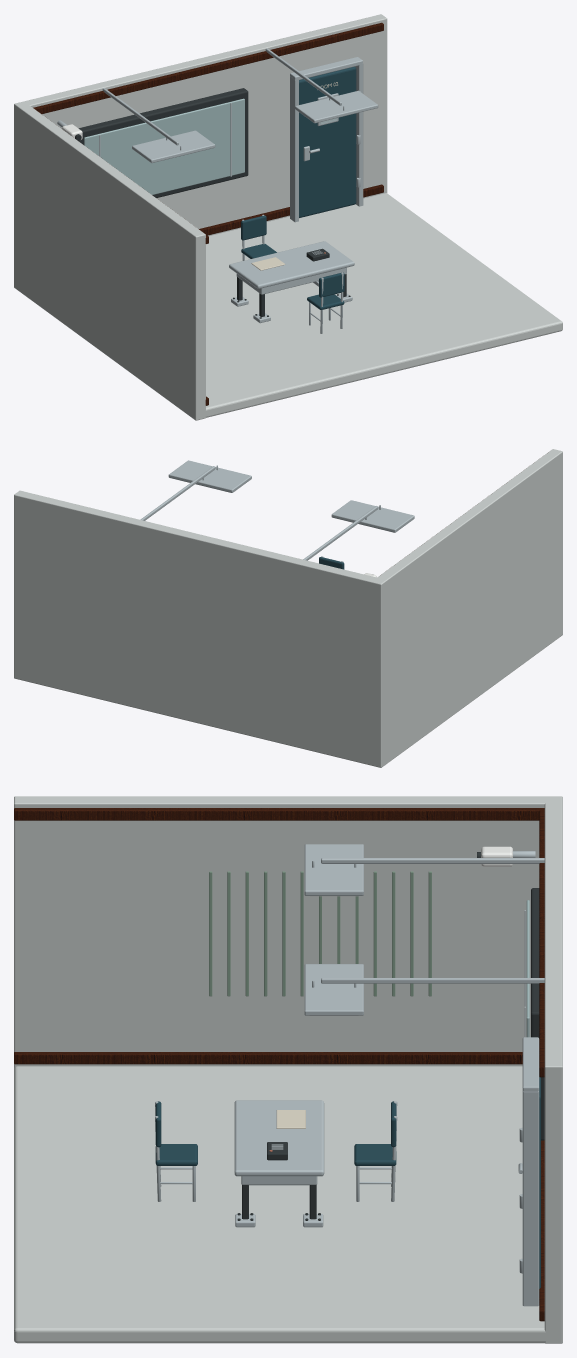
Rendered from police_interview_room.glb.
The picture shows the model from 3 angles, top to bottom: view 1: azimuth 30°, elevation 25°; view 2: azimuth 150°, elevation 25°; view 3: azimuth 270°, elevation 25°; orthographic projection. The views are drawn at different scales.
Visible parts, largest first — view 1: RefinedSurface_Concrete, RefinedSurface_Steel, RefinedSurface_Ink blue, Interview_ObservationGlass, RefinedSurface_Warm oak, RefinedSurface_Black metal; view 2: RefinedSurface_Concrete, RefinedSurface_Steel; view 3: RefinedSurface_Concrete, RefinedSurface_Steel, RefinedSurface_Warm oak, RefinedSurface_Sage, RefinedSurface_Ink blue, RefinedSurface_Black metal.
Part boxes in pixels (x1=…): RefinedSurface_Concrete: x1=14, y1=14, x2=562, y2=420; RefinedSurface_Steel: x1=57, y1=48, x2=378, y2=333; RefinedSurface_Ink blue: x1=241, y1=66, x2=356, y2=309; Interview_ObservationGlass: x1=84, y1=98, x2=244, y2=194; RefinedSurface_Warm oak: x1=33, y1=22, x2=383, y2=405; RefinedSurface_Black metal: x1=75, y1=88, x2=350, y2=318; RefinedSurface_Concrete: x1=14, y1=449, x2=562, y2=767; RefinedSurface_Steel: x1=140, y1=460, x2=414, y2=562; RefinedSurface_Concrete: x1=14, y1=796, x2=562, y2=1343; RefinedSurface_Steel: x1=155, y1=844, x2=544, y2=1306; RefinedSurface_Warm oak: x1=14, y1=808, x2=544, y2=1321; RefinedSurface_Sage: x1=209, y1=871, x2=431, y2=996; RefinedSurface_Ink blue: x1=155, y1=1077, x2=540, y2=1288; RefinedSurface_Black metal: x1=237, y1=852, x2=544, y2=1220.
Bounding box in the file's own units: 7 × 3.35 × 6.
Materials: 12 (1 with a texture image).
